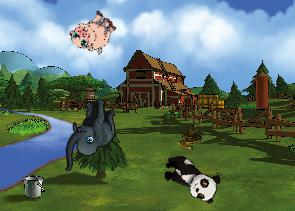elephant: (58, 97, 119, 171)
panda: (157, 150, 224, 206)
pig: (65, 4, 121, 60)
